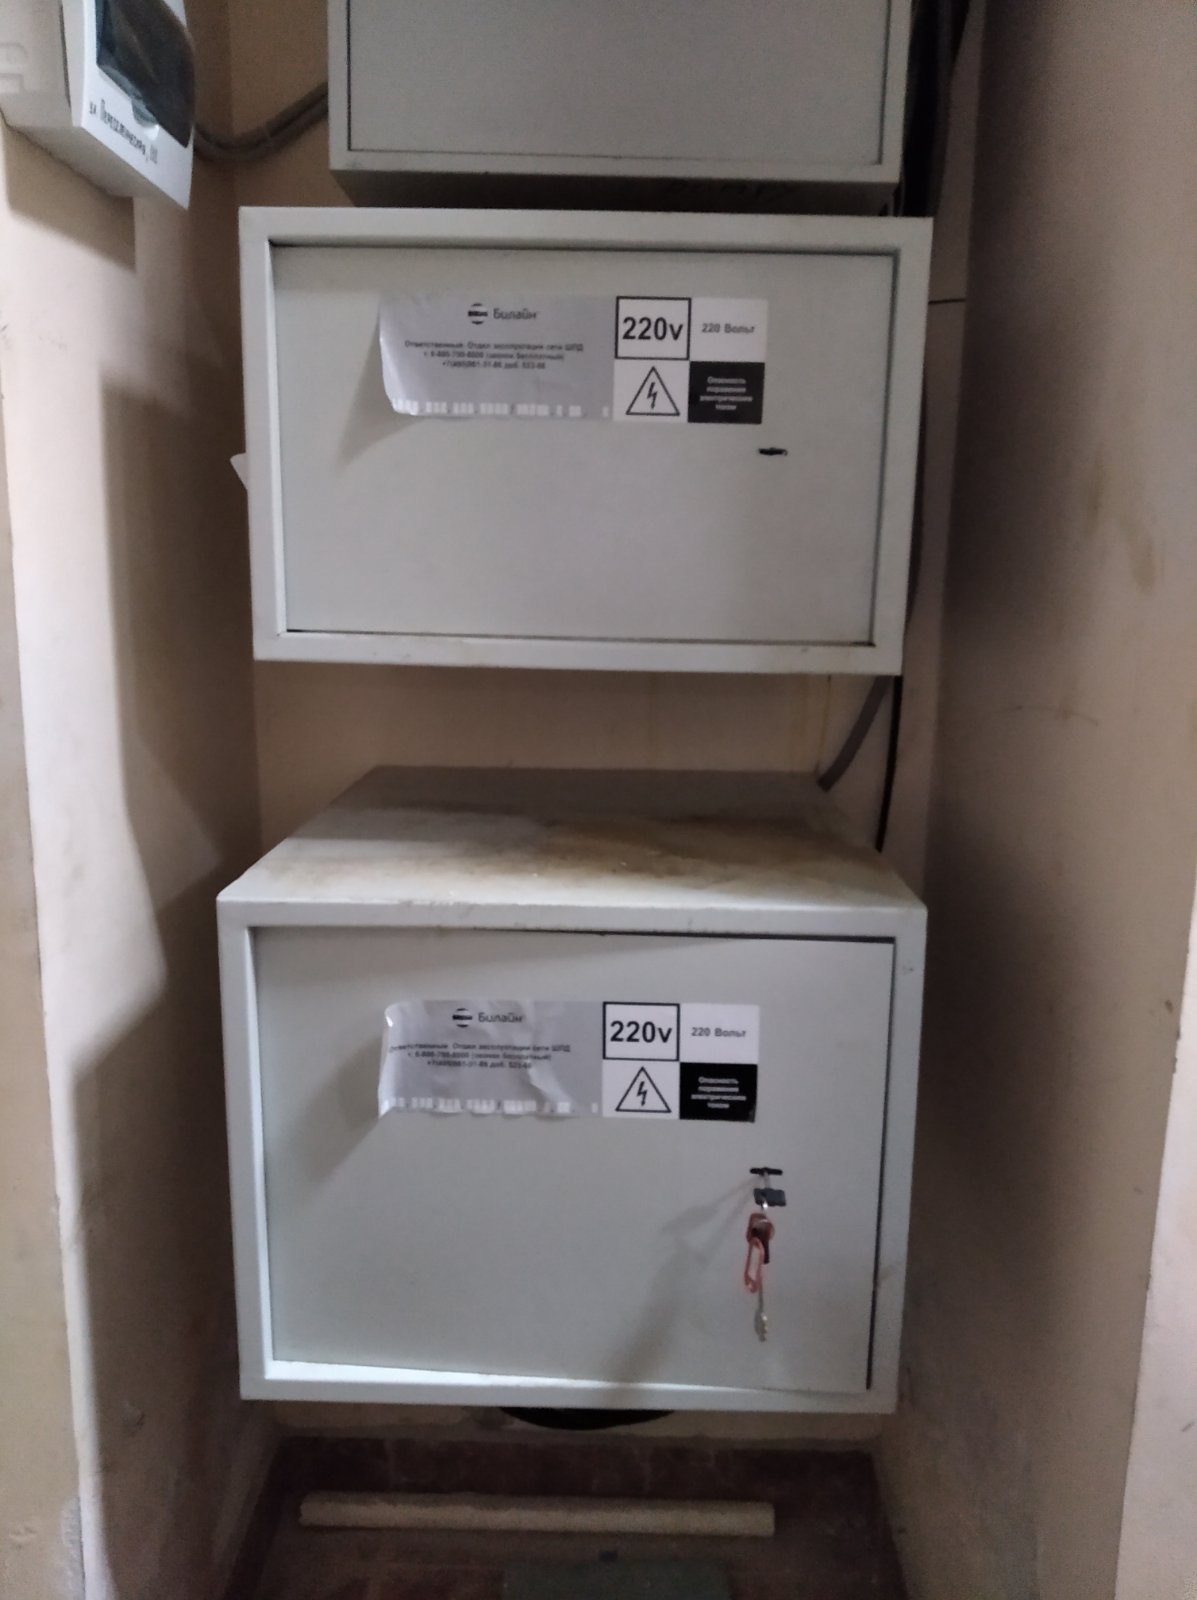shta-7m: (216, 184, 953, 694)
shta-9m: (207, 754, 937, 1425)
